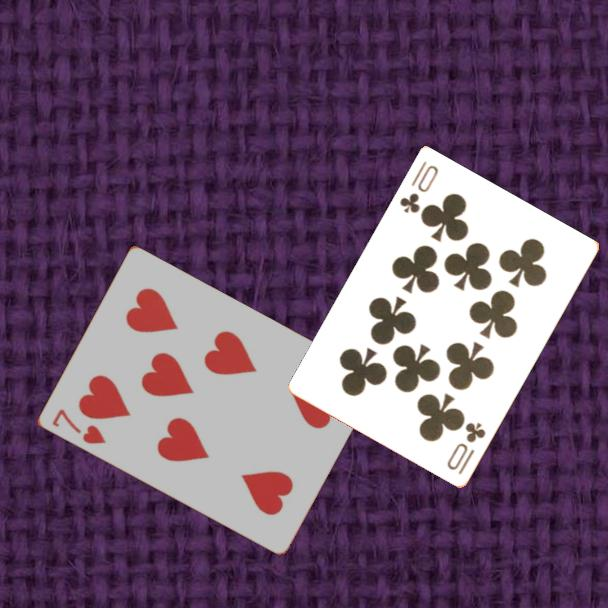c10: (443, 419, 489, 478), (396, 158, 441, 217)
h07: (48, 405, 108, 447)
